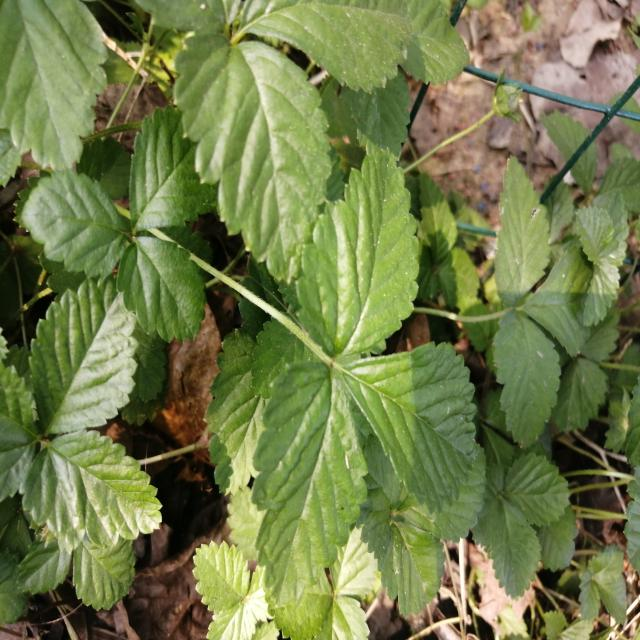Mock_strawberry: (260, 220, 514, 580)
